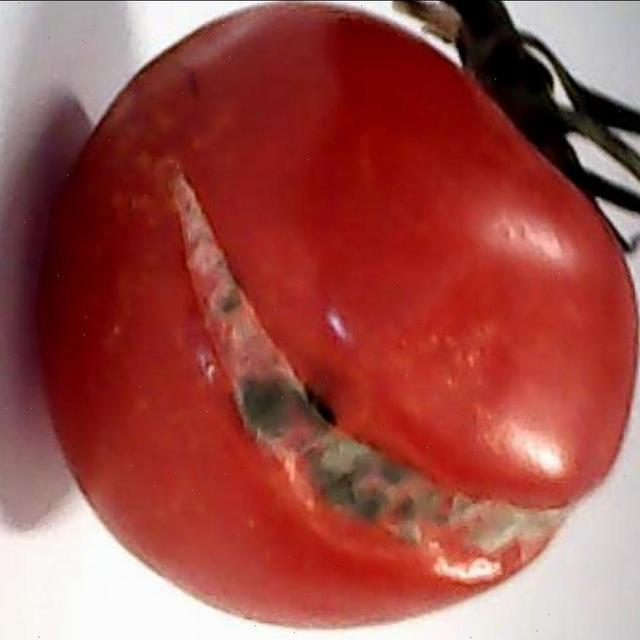Cracking Fruit: (57, 107, 405, 382)
